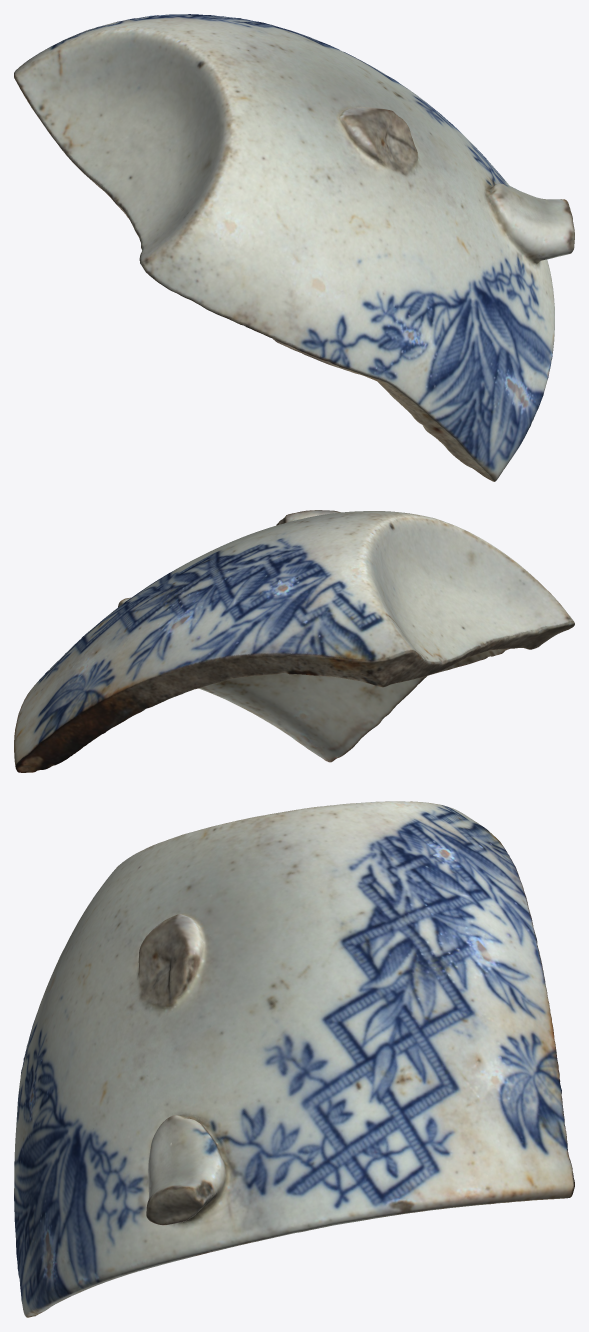
3 views of the same model, one above another, from view 1: azimuth 30°, elevation 25°; view 2: azimuth 150°, elevation 25°; view 3: azimuth 270°, elevation 25° (orthographic). The views are drawn at different scales.
Visible parts, largest first — view 1: Node; view 2: Node; view 3: Node.
Part boxes in pixels (x1=…): Node: x1=14, y1=14, x2=574, y2=481; Node: x1=14, y1=510, x2=574, y2=772; Node: x1=14, y1=801, x2=574, y2=1317.
Bounding box in the file's own units: 75.47 × 61.29 × 74.57.
Materials: 1 (1 with a texture image).
